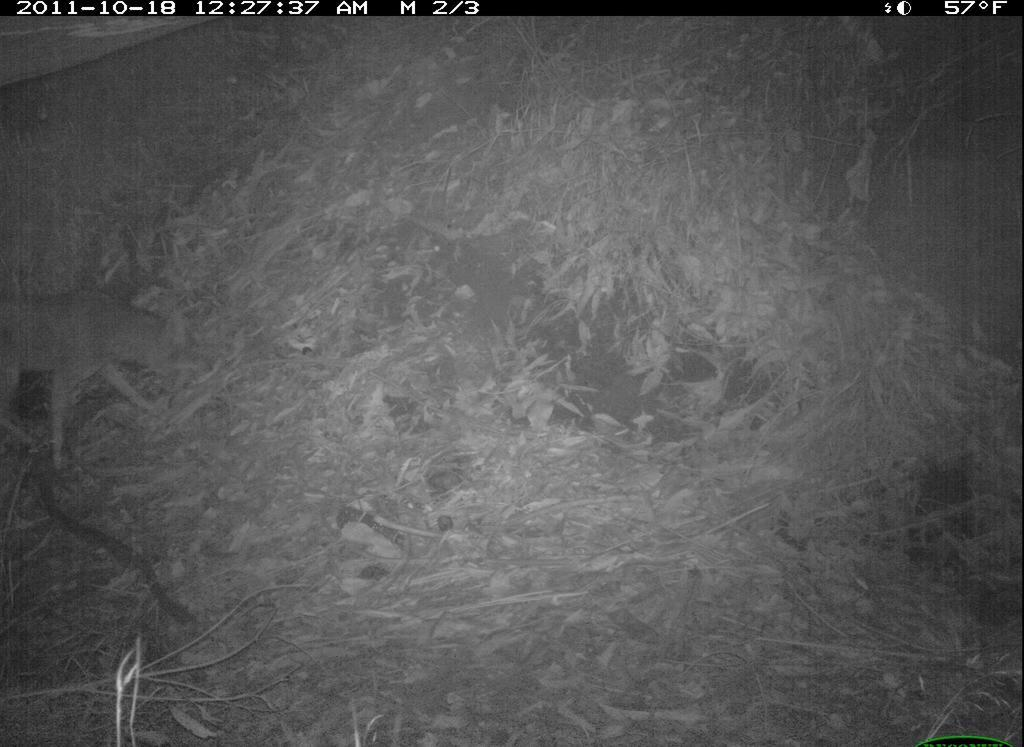coyote: (1, 283, 200, 481)
